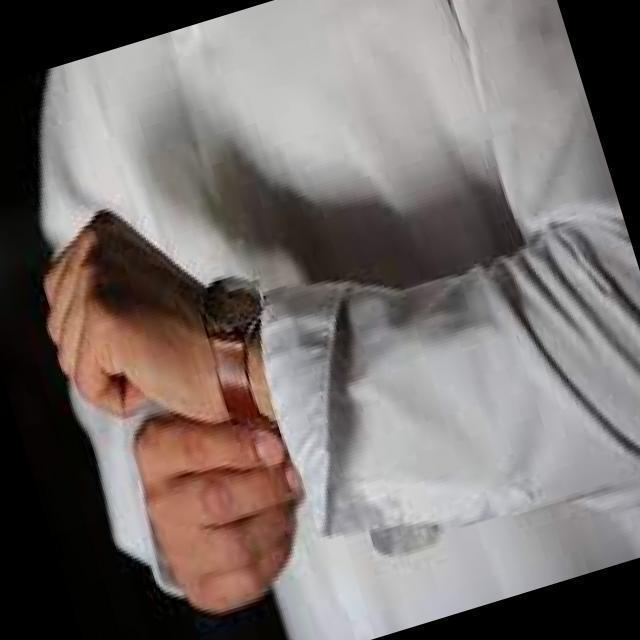Watch: (198, 274, 276, 426)
